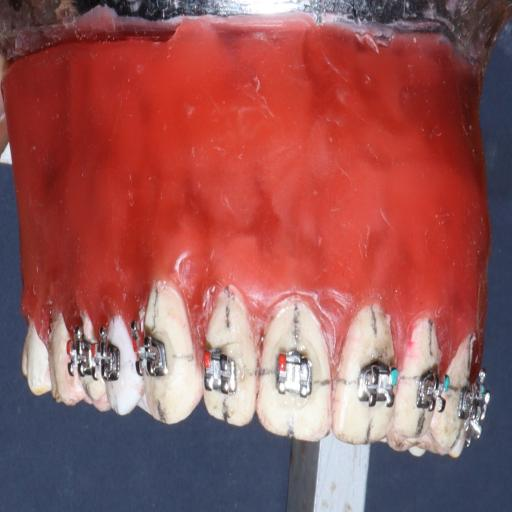incorrect_brace: (202, 285, 258, 428), (274, 350, 314, 400), (203, 350, 236, 394)
